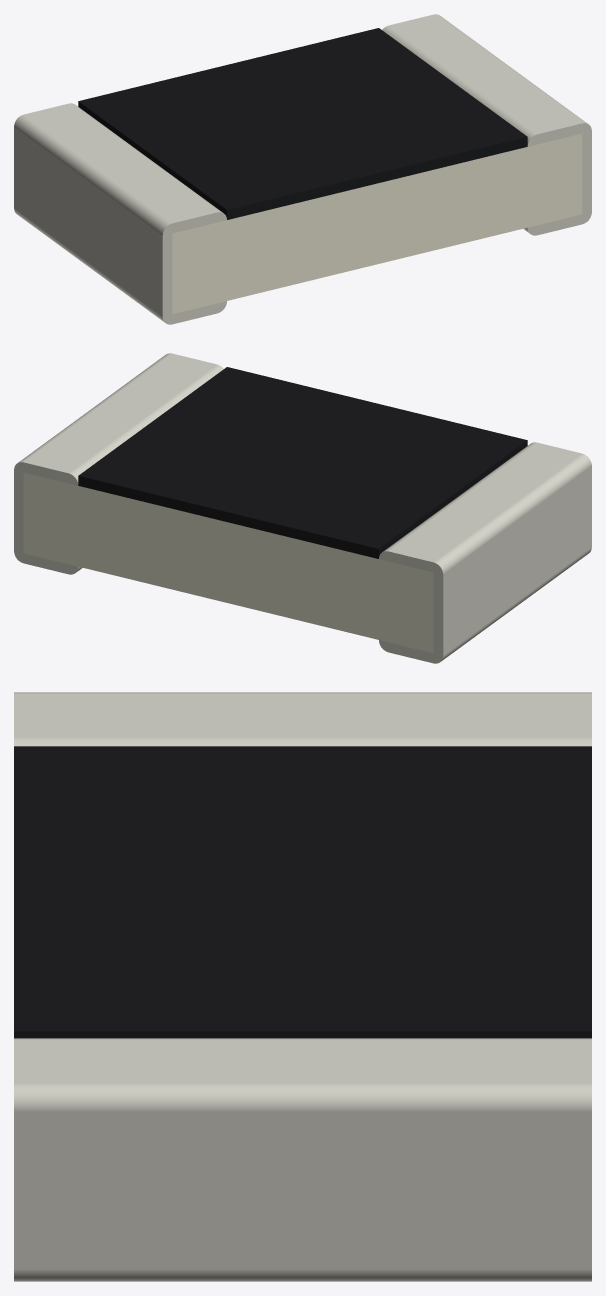
The model's file is Resistor_SMD__R_0805_2012Metric.glb.
The picture shows the model from 3 angles, top to bottom: view 1: azimuth 30°, elevation 25°; view 2: azimuth 150°, elevation 25°; view 3: azimuth 270°, elevation 25°; orthographic projection. The views are drawn at different scales.
Parts seen in each view (by area): view 1: R_0805_2012Metric; view 2: R_0805_2012Metric; view 3: R_0805_2012Metric.
Boxes of the visible parts, x1,y1,x2,y2 form: R_0805_2012Metric: [14, 14, 591, 324]; R_0805_2012Metric: [14, 353, 591, 663]; R_0805_2012Metric: [14, 692, 591, 1281].
Bounding box in the file's own units: 0.002 × 0.00045 × 0.0012.
